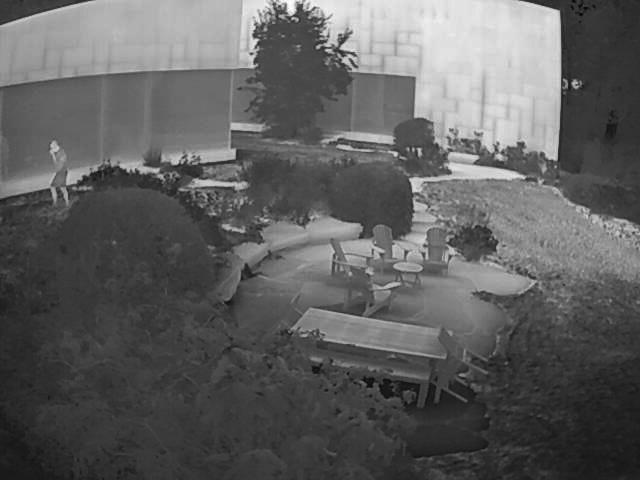person: (48, 138, 70, 211)
